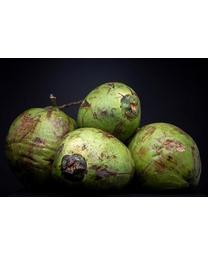coconut: (57, 125, 135, 196), (7, 108, 78, 183), (133, 123, 205, 195), (77, 79, 141, 145)
